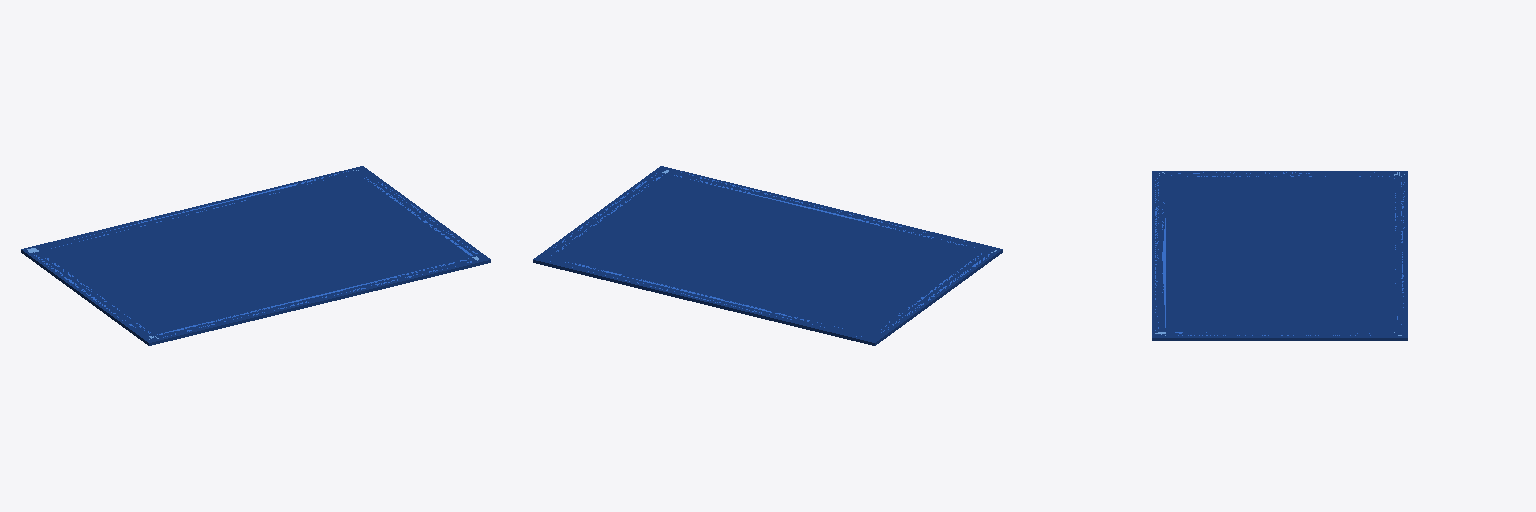
File: Teppich02Larger.obj
3 views of the same model, side by side, from view 1: azimuth 30°, elevation 25°; view 2: azimuth 150°, elevation 25°; view 3: azimuth 270°, elevation 25° (orthographic).
Parts seen in each view (by area): view 1: Teppich02Larger.001_Teppich02Larger; view 2: Teppich02Larger.001_Teppich02Larger; view 3: Teppich02Larger.001_Teppich02Larger.
Part boxes in pixels (bbox=[...]): Teppich02Larger.001_Teppich02Larger: bbox=[21, 166, 490, 345]; Teppich02Larger.001_Teppich02Larger: bbox=[533, 166, 1002, 345]; Teppich02Larger.001_Teppich02Larger: bbox=[1152, 171, 1407, 340].
Size of the model in its own units: 7.12 by 0.0625 by 4.62.